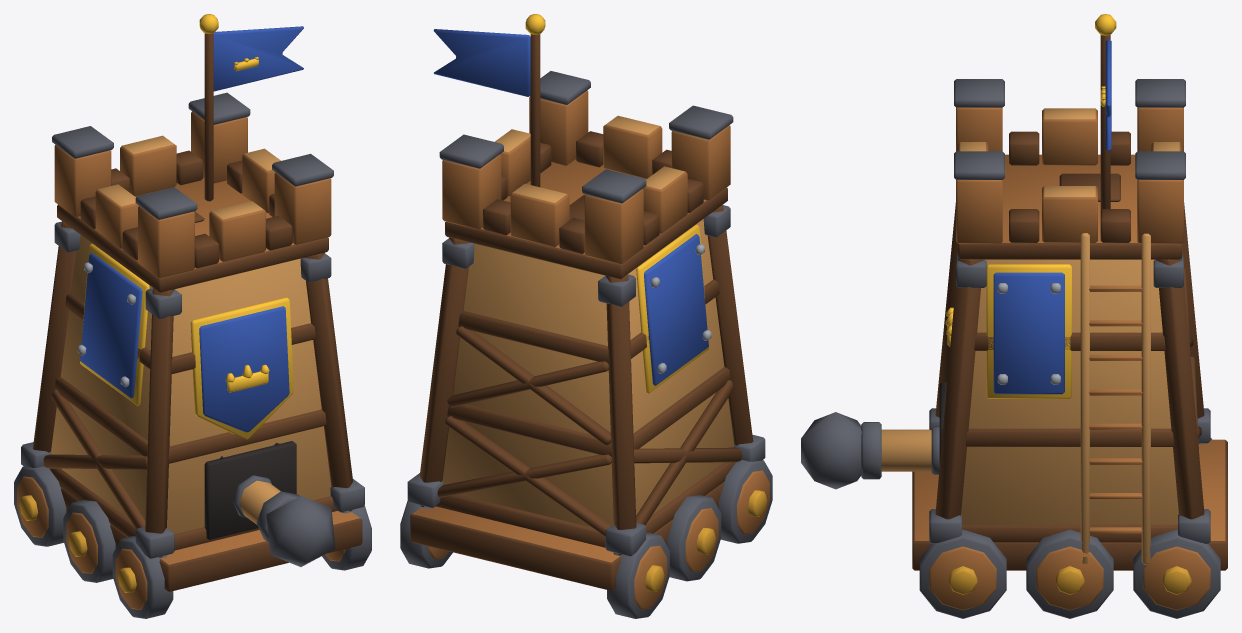
The model's file is X_MedSiegeTower.fbx.
3 views of the same model, side by side, from view 1: azimuth 30°, elevation 25°; view 2: azimuth 150°, elevation 25°; view 3: azimuth 270°, elevation 25° (orthographic). The views are drawn at different scales.
Parts seen in each view (by area): view 1: M_SiegeTower; view 2: M_SiegeTower; view 3: M_SiegeTower.
Boxes of the visible parts, left/top/right/bottom form: M_SiegeTower: left=14, top=14, right=371, bottom=618; M_SiegeTower: left=400, top=14, right=772, bottom=618; M_SiegeTower: left=801, top=14, right=1227, bottom=618.
Size of the model in its own units: 3.04 by 6.11 by 4.19.
Materials: 1 (1 with a texture image).
